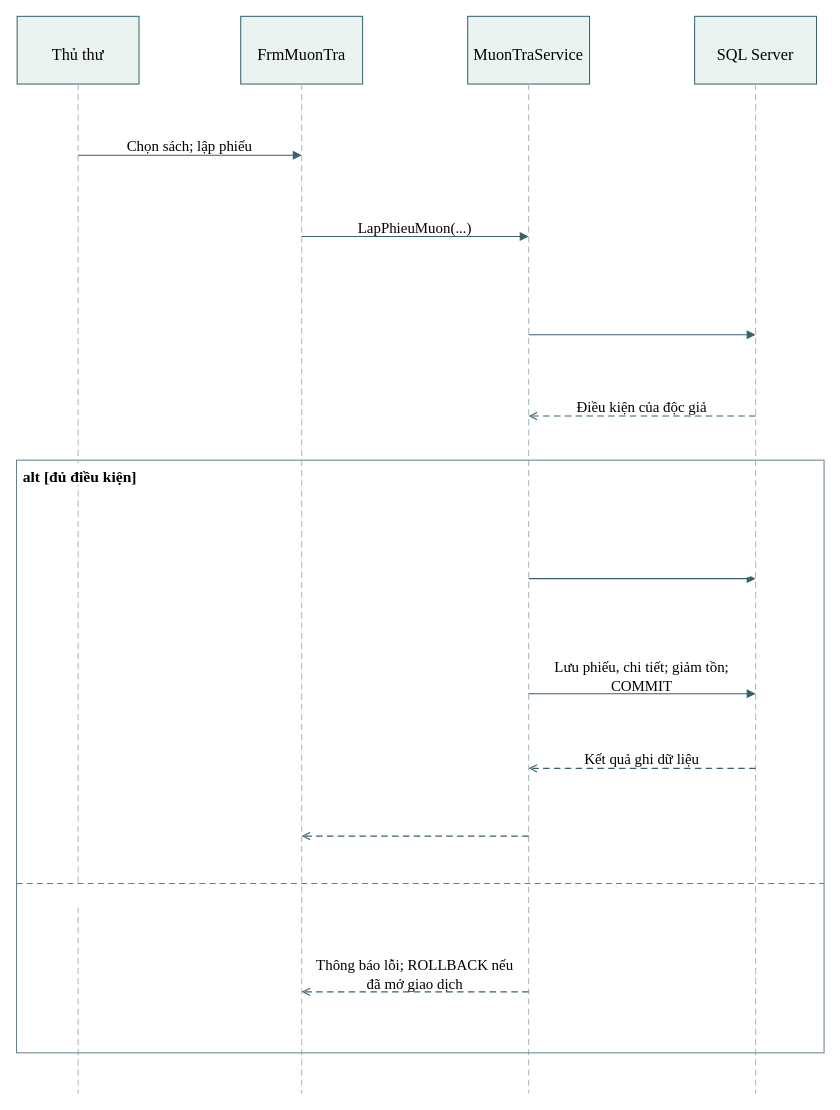
Some shapes in this 840 by 1110 pixel diagram are drawn without their labels. The shapes that lost their labels are listed below. From the top down, each one's box as (x1, y1, x2, y2) in pixels, then its label:
(543, 312, 740, 333): Kiểm tra thẻ và sách đang mượn
(534, 538, 749, 577): Bắt đầu giao dịch; khóa và kiểm tra tồn
(365, 813, 464, 834): Mã phiếu mượn
(23, 886, 197, 907): [bị từ chối / lỗi ghi dữ liệu]
